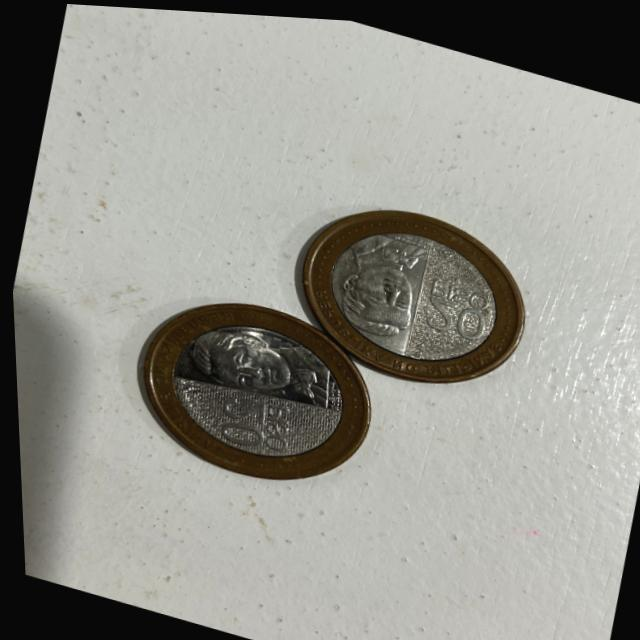20_New_Front: (200, 379, 298, 465), (406, 260, 495, 354)
